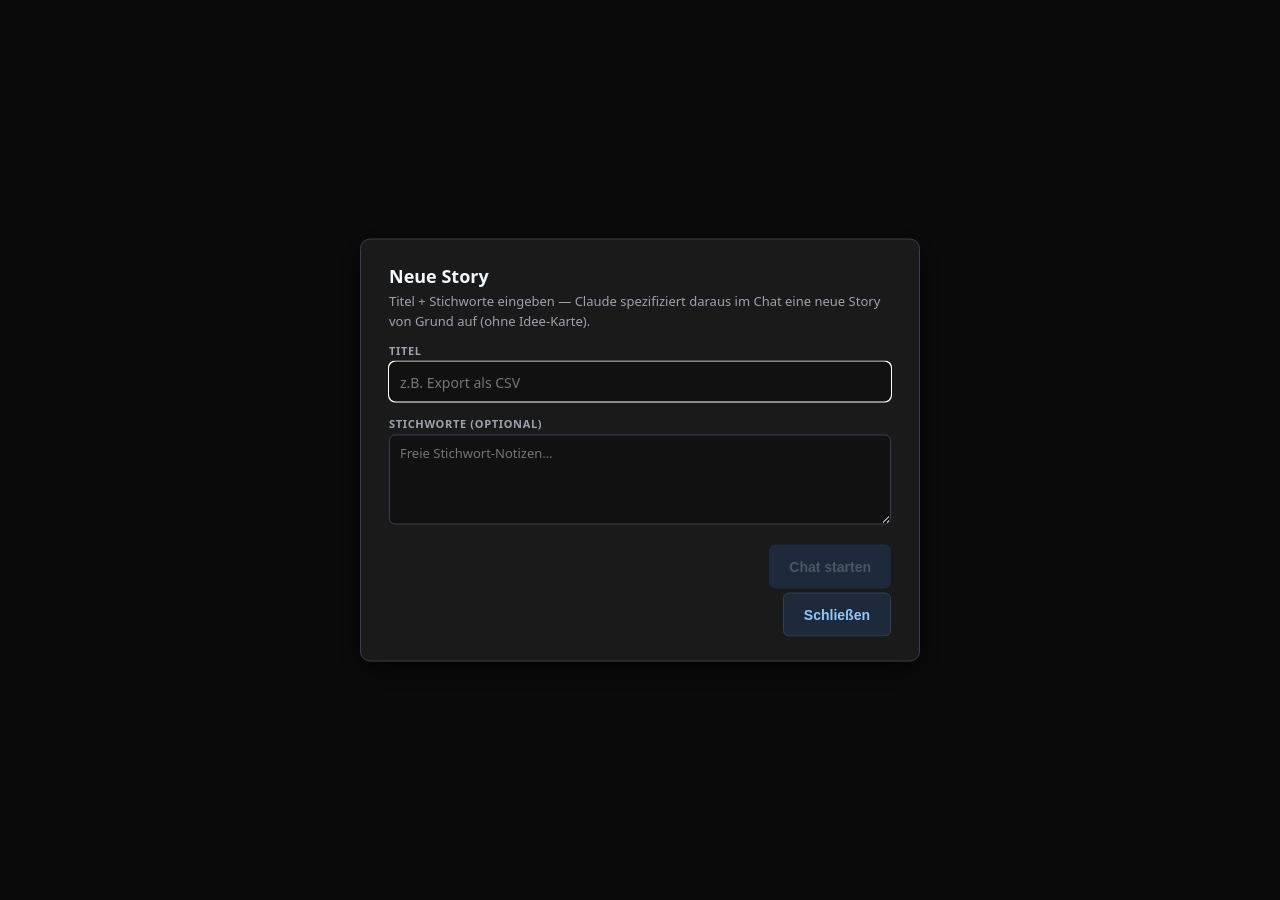
scratch — AC1: Start-Feld, kein Auto-Start, Seed über initialText › submitting the start-field POSTs .../story-specify/start with initialText and renders the Claude opening bubble
Type "Export als CSV" into the field labelled "Titel" at (640, 382), box [389,362,891,402]
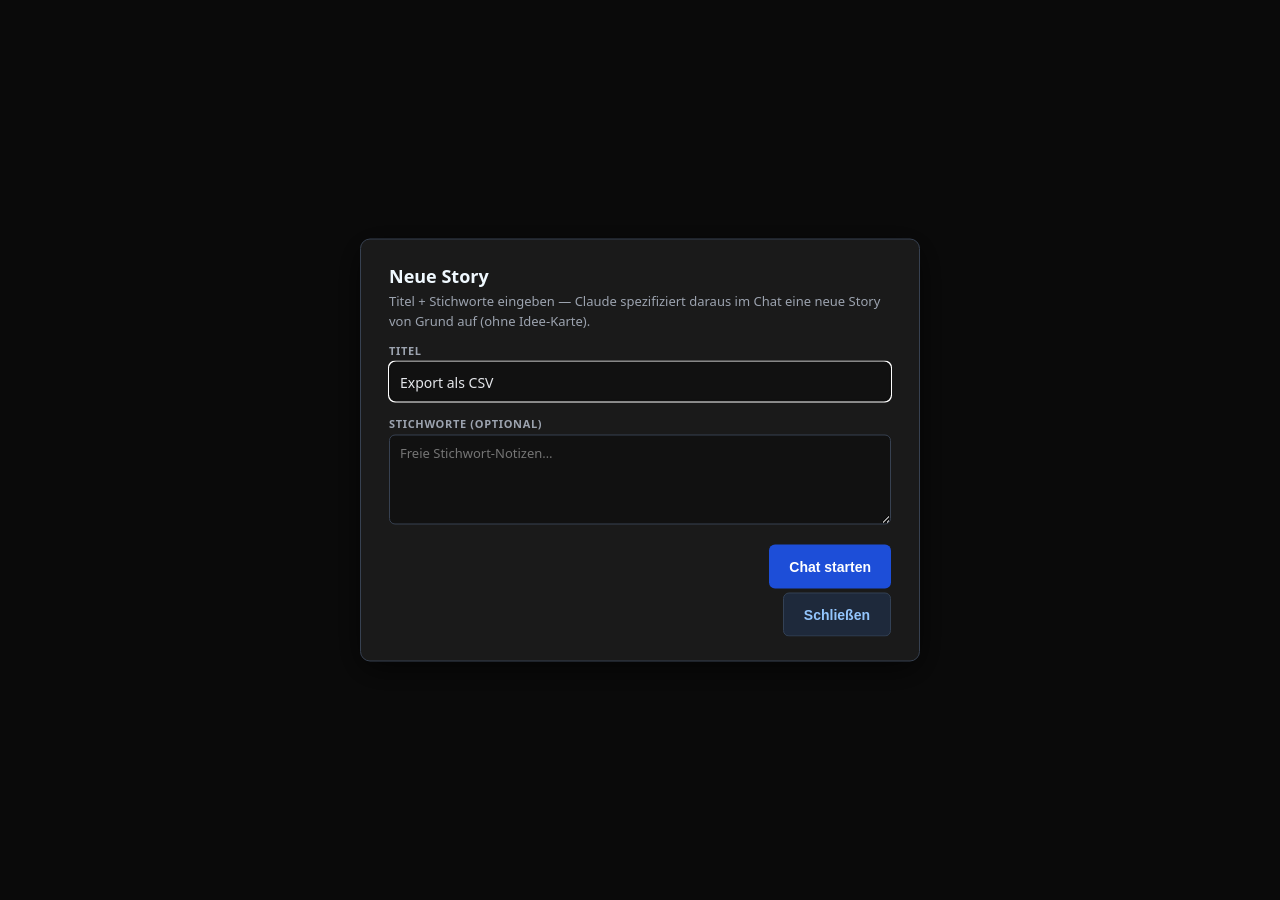
Click the button "Chat starten" at (830, 566), box [769,544,891,588]
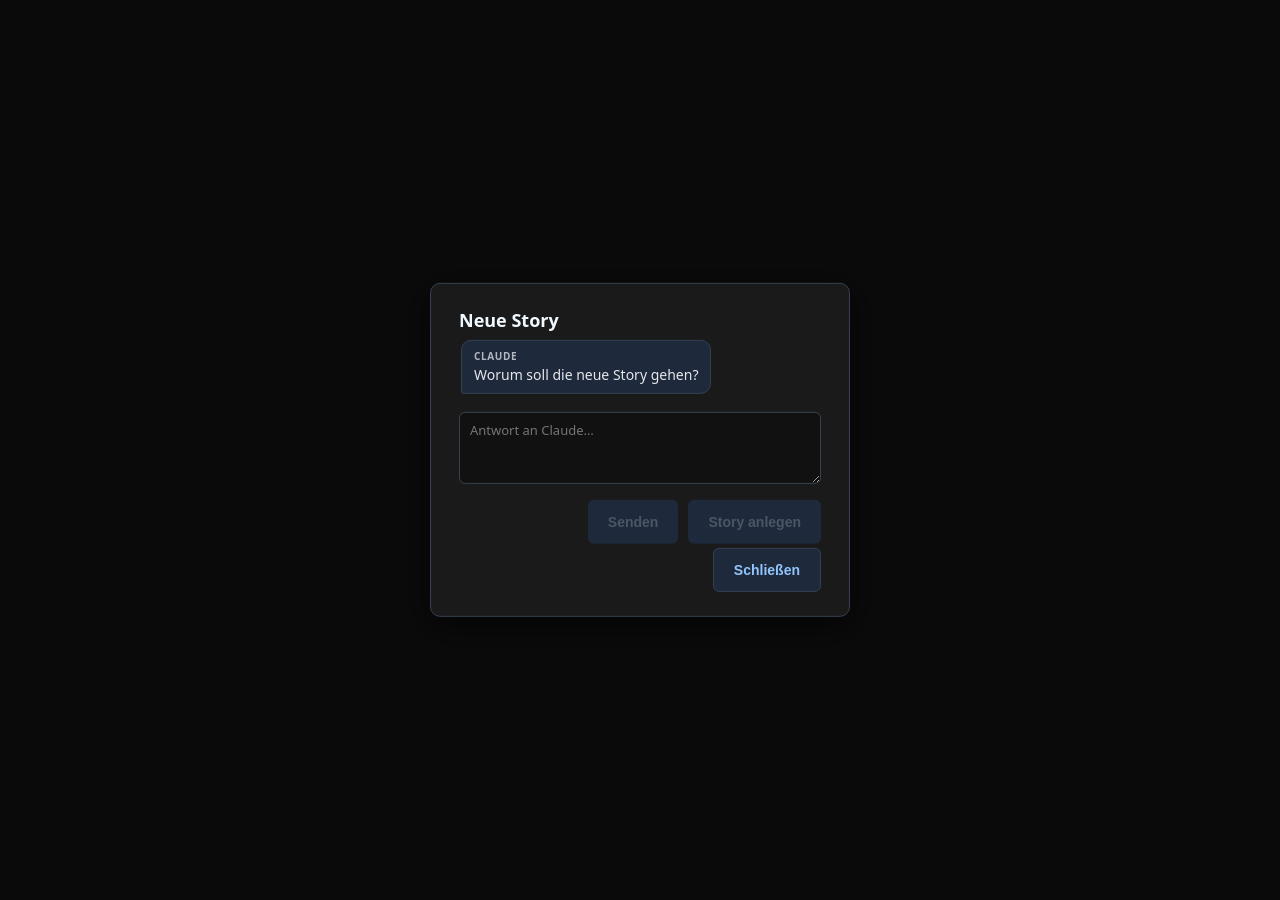
Expected: the number of elements with test id "idea-specify-message" is 1, [461,340,712,394]
